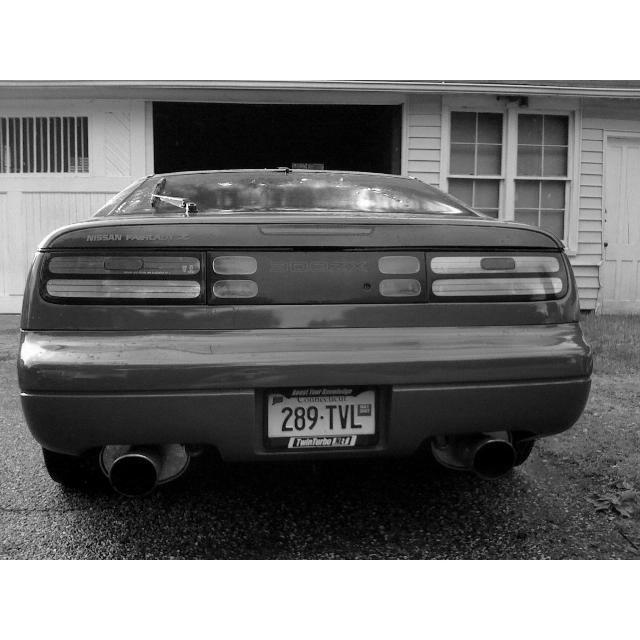Rear-windscreen-Damage: (148, 167, 435, 221)
